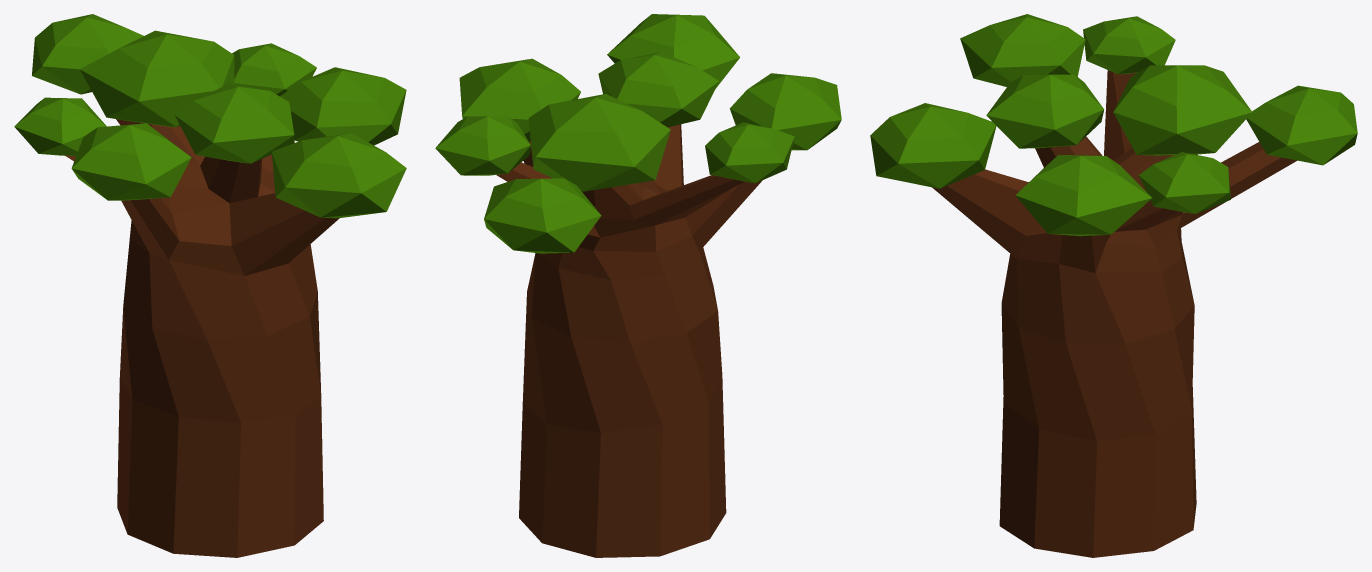
Rendered from BaobabTree2.fbx.
The picture shows the model from 3 angles, left to right: view 1: azimuth 30°, elevation 25°; view 2: azimuth 150°, elevation 25°; view 3: azimuth 270°, elevation 25°; orthographic projection. The views are drawn at different scales.
Parts seen in each view (by area): view 1: Cylinder; view 2: Cylinder; view 3: Cylinder.
Part boxes in pixels (bbox=[...]): Cylinder: bbox=[14, 14, 406, 557]; Cylinder: bbox=[435, 14, 841, 557]; Cylinder: bbox=[870, 14, 1357, 557].
Size of the model in its own units: 8.94 by 10.76 by 10.74.
